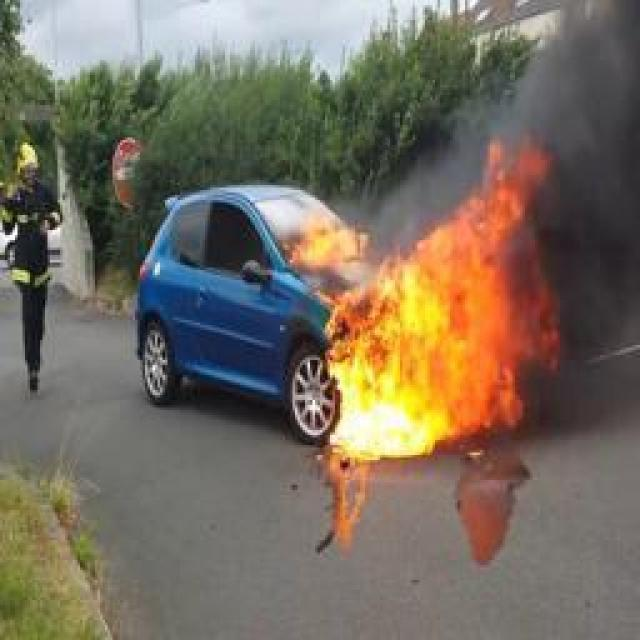Fire: (298, 140, 560, 460), (286, 212, 364, 268)
